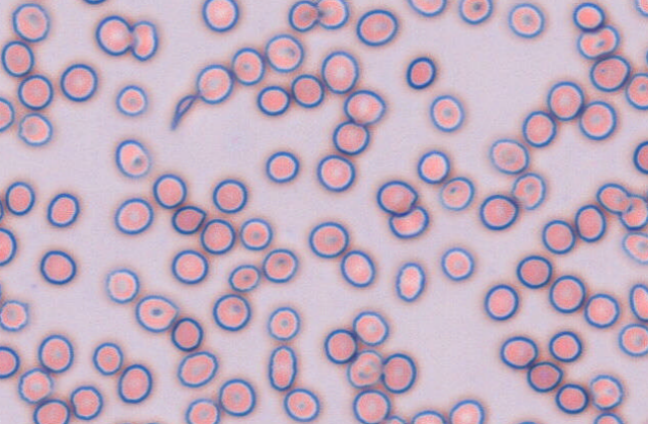RBC: (320, 50, 359, 93), (355, 8, 398, 46), (135, 294, 178, 332), (11, 2, 50, 42), (195, 63, 233, 104), (308, 220, 349, 258), (176, 350, 218, 387), (264, 33, 303, 72), (578, 100, 616, 140), (546, 80, 584, 120), (95, 14, 132, 55), (589, 54, 630, 91), (343, 89, 385, 125), (576, 24, 619, 59), (316, 154, 355, 192), (212, 293, 251, 331), (114, 138, 151, 178), (376, 179, 417, 215), (488, 138, 529, 174), (59, 63, 97, 101), (346, 349, 383, 388), (218, 377, 255, 416), (548, 274, 585, 313), (479, 193, 518, 230), (114, 197, 153, 234), (37, 333, 73, 373), (381, 352, 416, 393), (117, 363, 152, 403), (339, 249, 375, 287), (267, 345, 297, 390), (507, 2, 544, 38), (282, 387, 320, 422), (230, 47, 265, 85), (429, 94, 464, 132), (17, 367, 53, 403), (588, 374, 624, 410), (17, 74, 53, 110), (583, 292, 619, 328), (262, 247, 298, 283), (332, 120, 369, 155), (171, 249, 208, 284), (39, 249, 76, 284), (510, 172, 545, 209), (521, 110, 556, 147), (483, 283, 518, 320), (352, 389, 390, 423), (499, 335, 537, 369), (200, 218, 235, 254), (352, 310, 388, 345), (104, 267, 139, 303), (438, 176, 474, 211), (0, 40, 34, 77), (515, 254, 552, 288), (394, 261, 425, 301), (212, 178, 247, 213), (69, 384, 103, 420), (152, 173, 186, 209), (201, 0, 239, 32), (574, 204, 606, 242), (17, 112, 52, 146), (416, 149, 450, 184), (290, 73, 324, 108), (541, 219, 575, 254), (440, 246, 474, 281), (323, 328, 356, 364), (170, 316, 203, 351), (267, 306, 300, 341), (46, 192, 79, 227), (526, 360, 562, 392), (595, 182, 631, 214), (130, 20, 158, 61), (265, 150, 299, 183), (239, 217, 272, 250), (554, 382, 588, 414), (548, 330, 582, 362), (91, 341, 123, 375), (617, 322, 648, 356), (171, 204, 206, 234), (115, 84, 147, 116), (405, 56, 436, 89), (5, 181, 35, 215), (256, 85, 290, 115), (619, 195, 648, 230), (288, 0, 319, 31), (572, 1, 604, 31), (316, 0, 349, 29), (227, 263, 260, 292), (32, 398, 70, 423), (184, 397, 220, 423), (0, 299, 28, 331), (621, 231, 648, 264), (625, 72, 648, 110), (448, 399, 484, 423), (458, 0, 492, 24), (628, 283, 648, 321), (0, 227, 17, 266), (407, 0, 446, 17), (0, 345, 20, 378), (632, 139, 648, 174), (410, 409, 446, 423), (0, 96, 14, 132), (592, 412, 624, 424), (379, 414, 407, 424), (634, 0, 648, 16), (509, 420, 542, 424), (81, 0, 107, 5), (0, 196, 4, 223), (644, 44, 648, 69), (644, 181, 648, 204), (110, 421, 138, 424), (140, 421, 168, 424), (0, 280, 3, 308)
Schistocyte: (386, 208, 429, 238), (170, 95, 192, 130)
